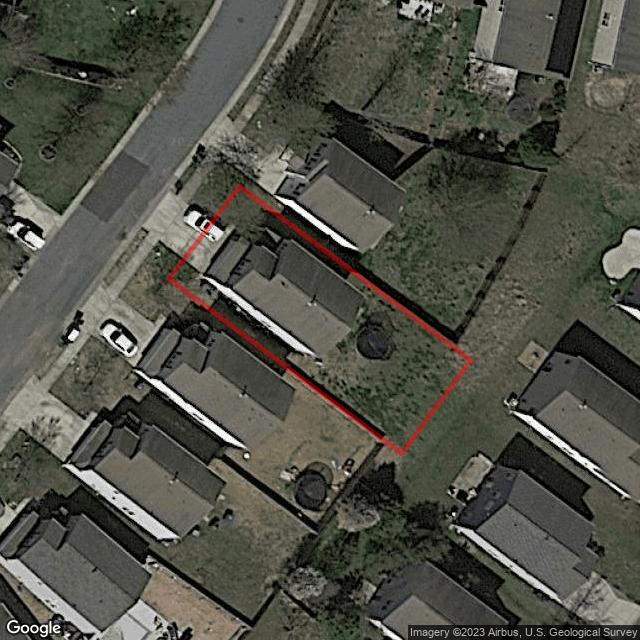Driveway: (161, 204, 210, 255), (189, 228, 232, 272)
Extra Driveway: (141, 191, 190, 240)
Extra Lawn: (192, 160, 248, 215), (142, 238, 181, 277)
Extra Sidewalk: (133, 231, 159, 261)
House: (205, 235, 368, 360)
